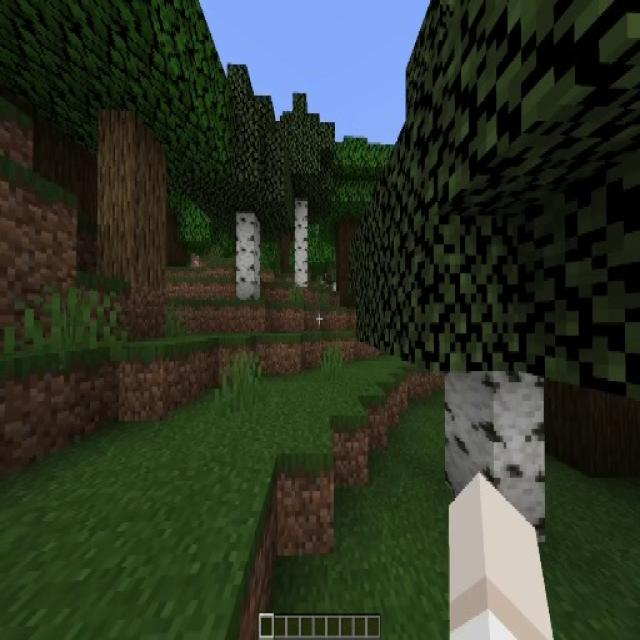birch: (345, 2, 640, 565), (198, 69, 285, 304), (269, 93, 339, 288)
birch_log: (446, 361, 546, 550), (100, 108, 166, 288), (236, 214, 261, 303), (295, 202, 308, 287)
dark_oak_log: (546, 368, 635, 483)
oak: (1, 0, 226, 288)
